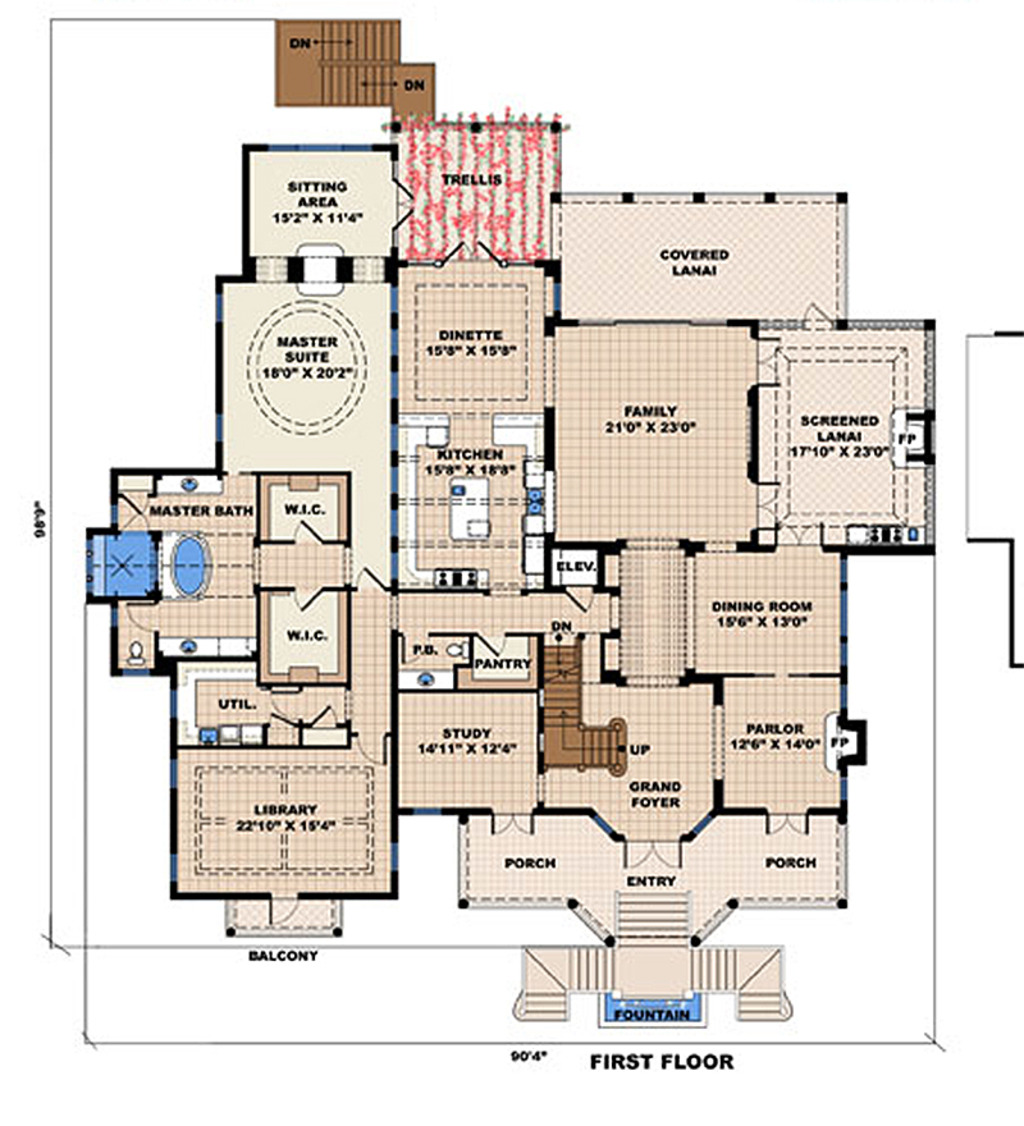door: (622, 837, 686, 869), (491, 810, 537, 840), (356, 730, 390, 769), (266, 885, 299, 922), (353, 565, 390, 594), (474, 627, 510, 656), (291, 516, 325, 546), (799, 304, 836, 330), (292, 584, 321, 608)
kitchen_bar: (446, 475, 497, 546)
large_sink: (115, 642, 148, 673)
small_sink: (154, 635, 222, 660), (156, 473, 224, 494), (398, 667, 453, 690)
stairs: (515, 896, 803, 1035), (268, 18, 450, 117), (545, 630, 634, 777)
tub: (175, 533, 214, 599)
